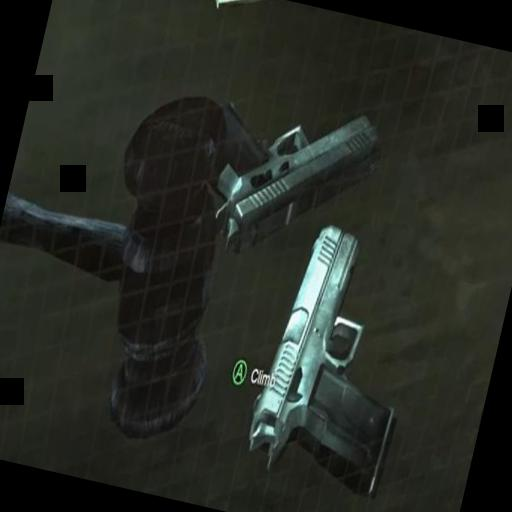Handgun: (198, 210, 441, 510)
